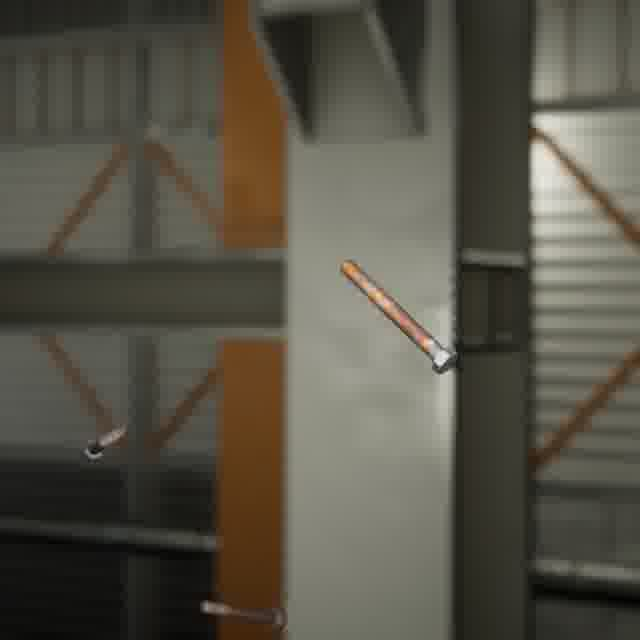bolt: (335, 255, 462, 378), (195, 595, 292, 636), (76, 422, 129, 465)
